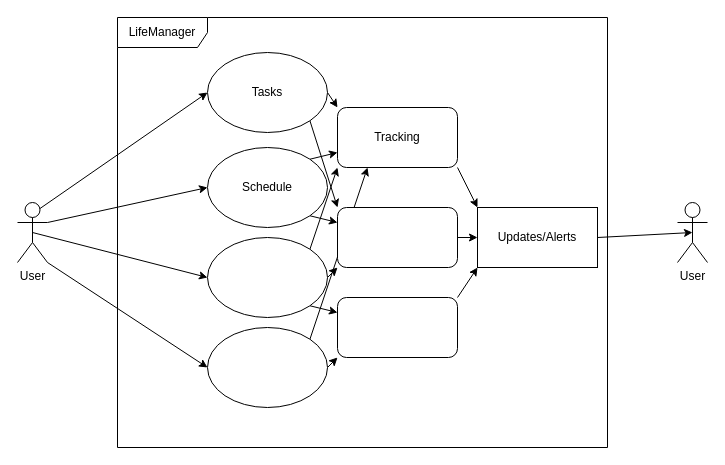
This 725x465 diagram has some shape labels left out. The centre of each missing label's shape, as x and y in pixels:
"Budgeting" belongs at (267,277).
"Goals" belongs at (397,327).
"Health/Diet" belongs at (267,367).
"Priority" belongs at (397,237).
